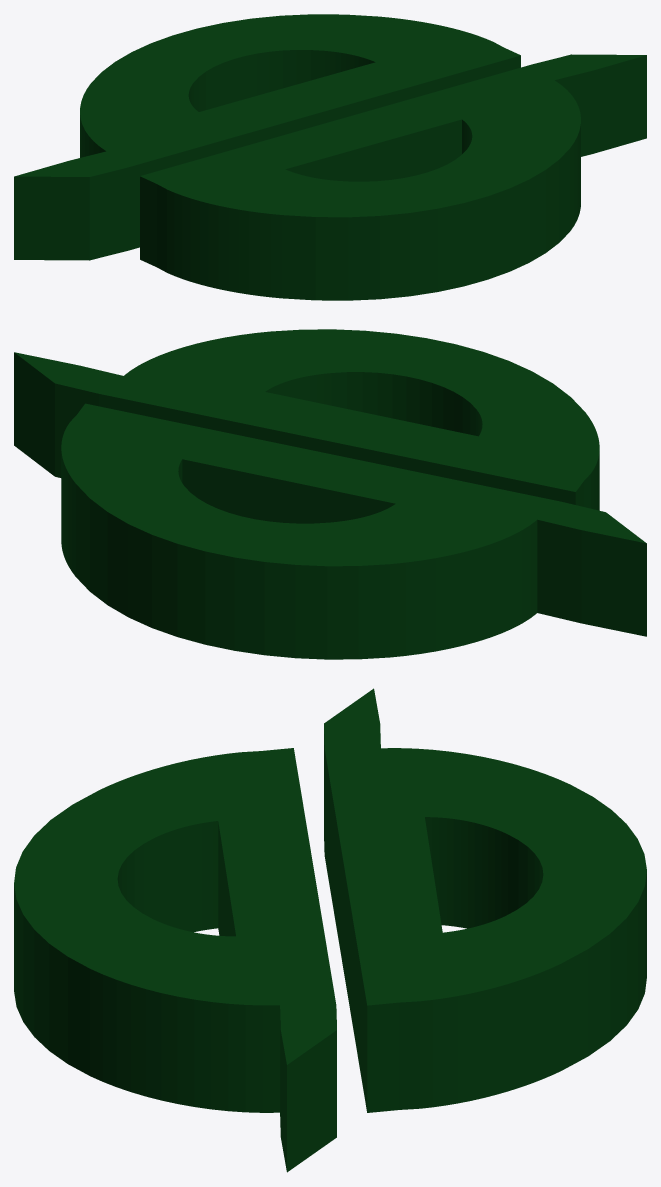
File: olenbetong2.obj
3 views of the same model, one above another, from view 1: azimuth 30°, elevation 25°; view 2: azimuth 150°, elevation 25°; view 3: azimuth 270°, elevation 25° (orthographic). The views are drawn at different scales.
Parts seen in each view (by area): view 1: Text.001; view 2: Text.001; view 3: Text.001.
Part boxes in pixels (x1=…): Text.001: x1=14, y1=14, x2=646, y2=300; Text.001: x1=14, y1=329, x2=646, y2=659; Text.001: x1=14, y1=688, x2=646, y2=1172.
Size of the model in its own units: 9.04 by 1.2 by 6.42.
